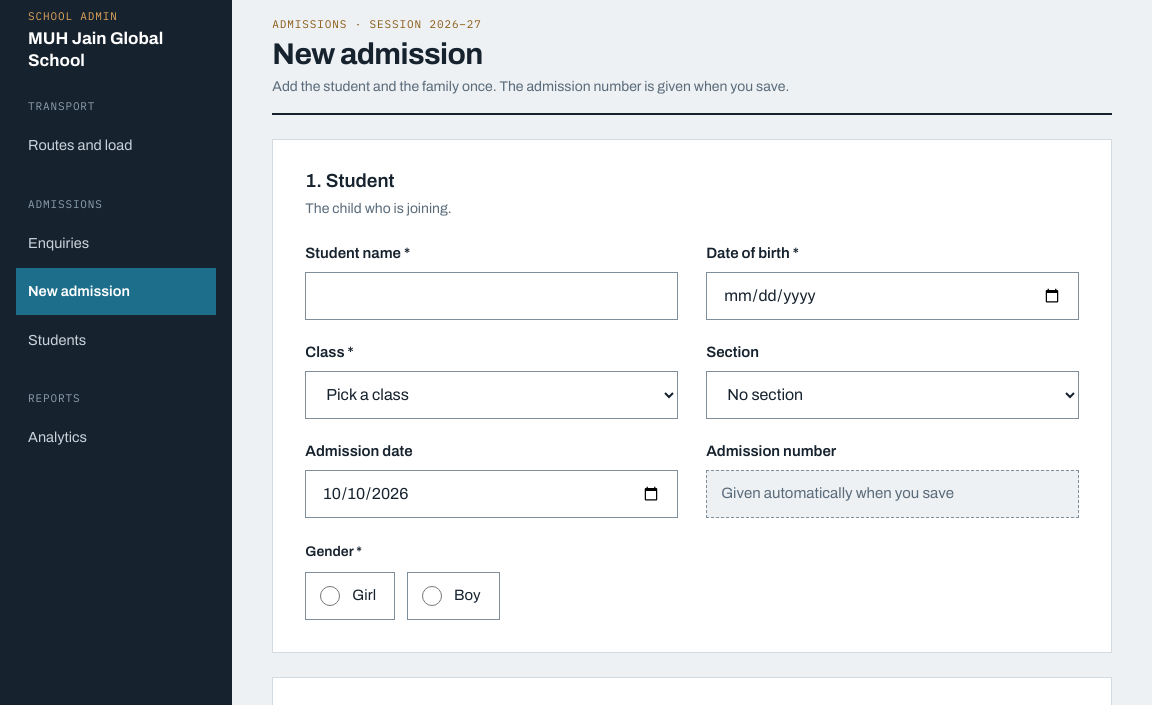
Test case: New admission: part 4, Fees › starts empty when the class fee is not set yet, and says so
This screenshot has width=1152, height=705.
Select "Class 5" in the dropdown labelled "Class *" at (492, 395), box [305,371,678,419]
(page scrolled)
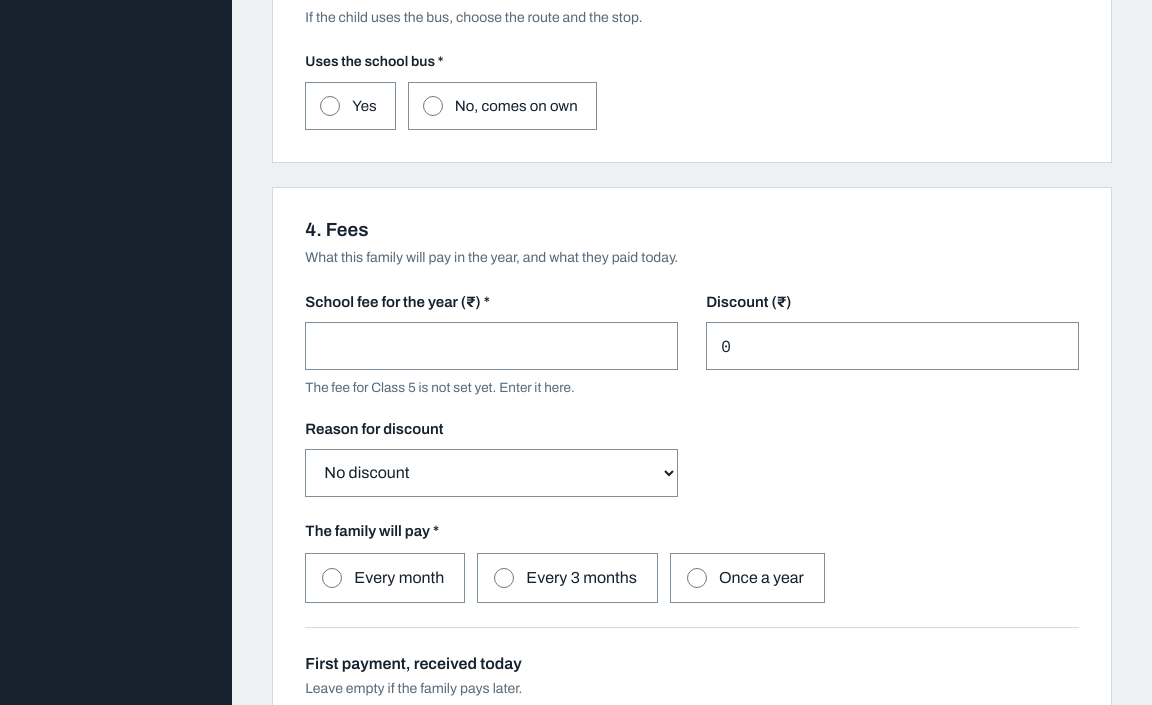
Expected: the field labelled "School fee for the year (₹) *" is empty, [305,322,678,370]
Now the text "The fee for Class 5 is not set yet. Enter it here." is shown, box [305,380,575,395]
